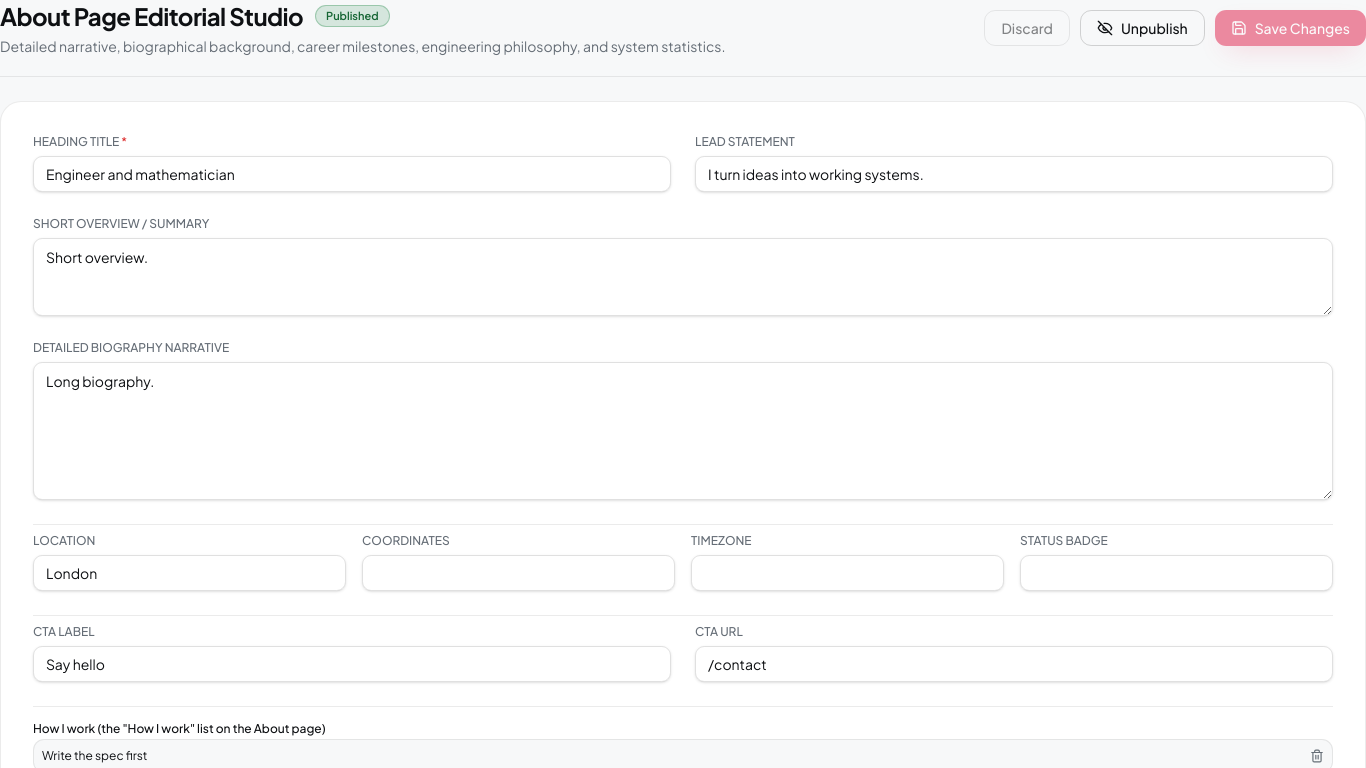
Test: AboutView › unpublishes the page
expect the field labelled "Heading Title" is shown: met, box [33,156,671,192]
Click the button "Unpublish": [1142, 28] box [1080,10,1205,46]
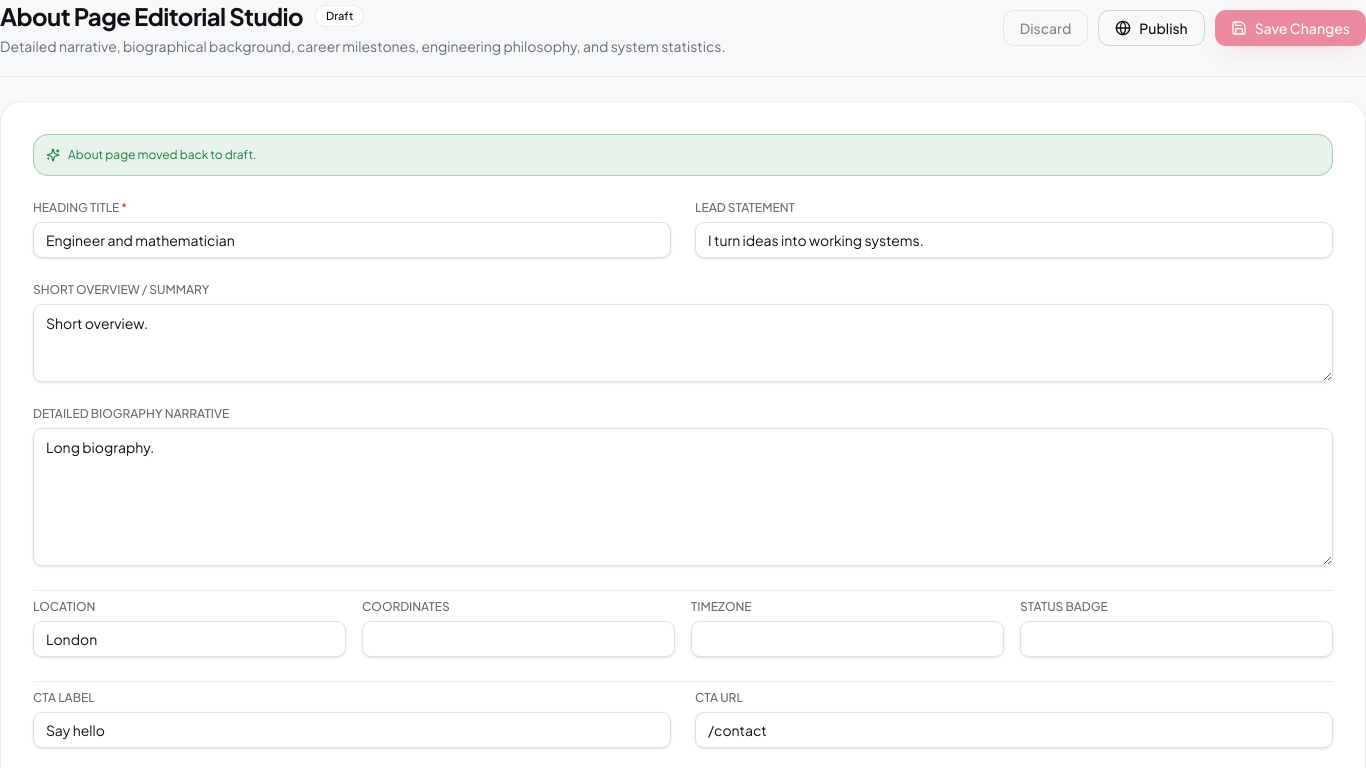
expect the text "About page moved back to draft." is shown: met, box [68,147,256,163]
